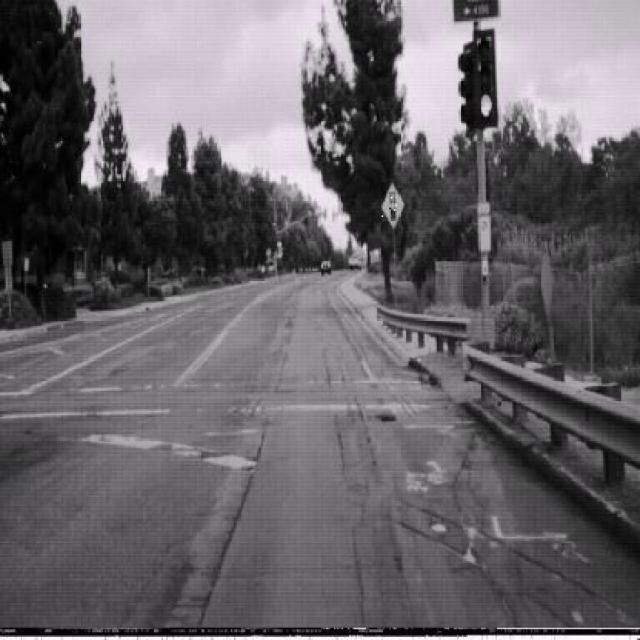signalAhead: (380, 180, 405, 229)
